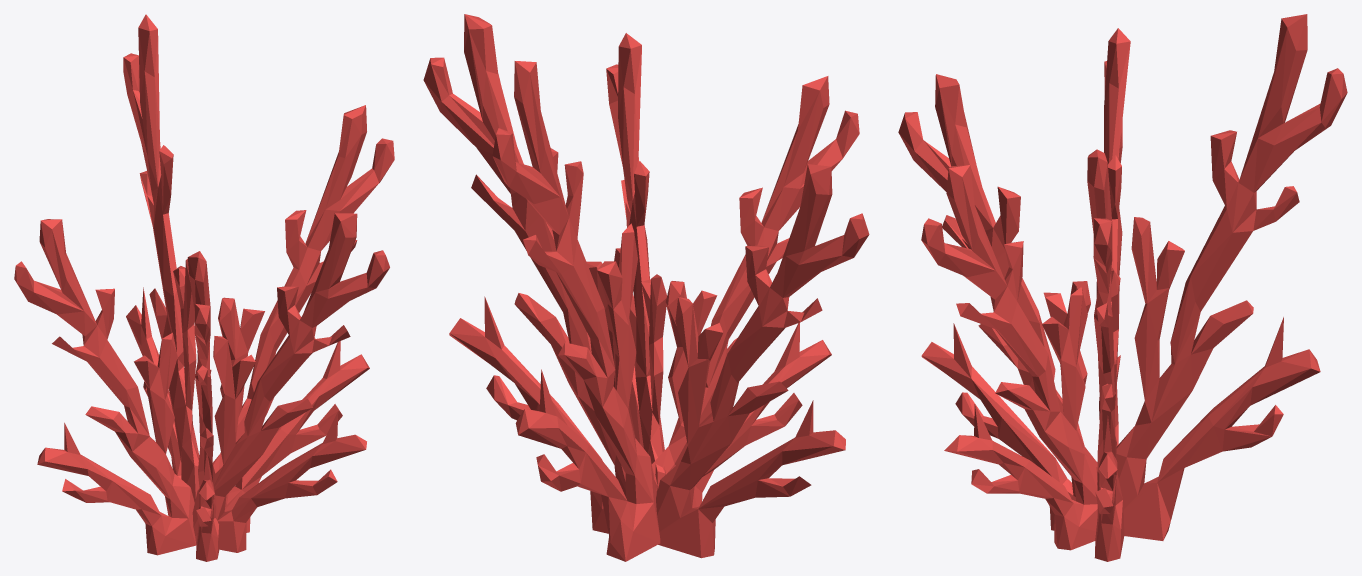
The model's file is Coral-1.glb.
The picture shows the model from 3 angles, left to right: view 1: azimuth 30°, elevation 25°; view 2: azimuth 150°, elevation 25°; view 3: azimuth 270°, elevation 25°; orthographic projection. The views are drawn at different scales.
Visible parts, largest first — view 1: Coral_008; view 2: Coral_008; view 3: Coral_008.
Boxes of the visible parts, x1=… form: Coral_008: x1=14, y1=14, x2=394, y2=561; Coral_008: x1=423, y1=14, x2=869, y2=561; Coral_008: x1=898, y1=14, x2=1347, y2=561.
Size of what is drawn, in the model's own units: 0.9659 by 1.13 by 0.8519.
Materials: 1 (1 with a texture image).
